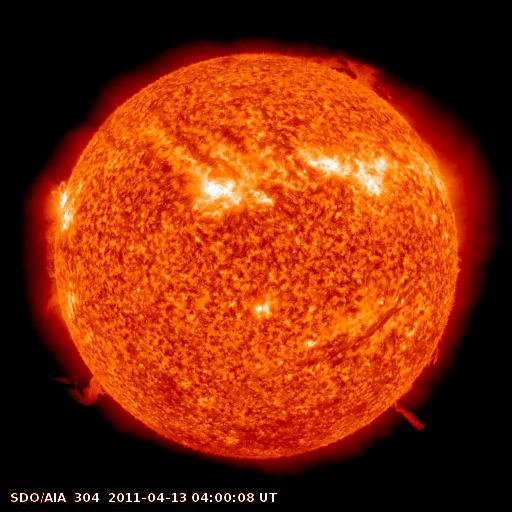prominence: (288, 40, 399, 103), (31, 242, 77, 324), (45, 365, 113, 410), (377, 388, 432, 439)
